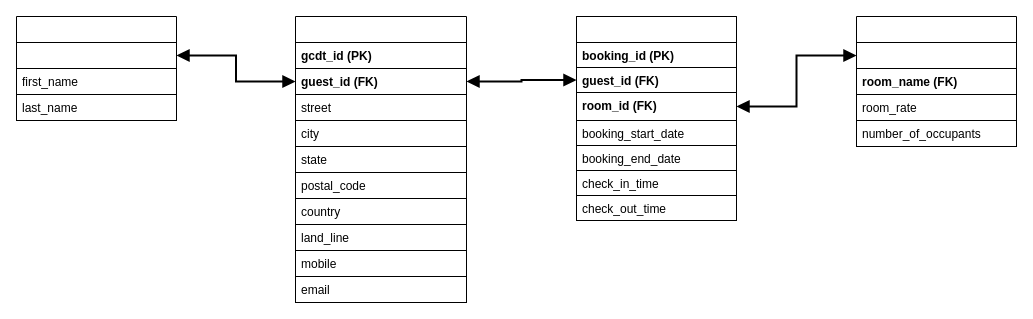
Some shapes in this 1033 by 319 pixel diagram are drawn without their labels. Here are the shapes that lost their labels. From the top down, the box of each, then its label:
(16, 42, 176, 68): guest_id (PK)
(16, 16, 176, 120): GuestTable
(856, 42, 1016, 68): room_id (PK)
(856, 16, 1016, 146): RoomTable
(576, 16, 736, 220): ReservationTable
(294, 16, 466, 302): GuestContactDetailsTable
